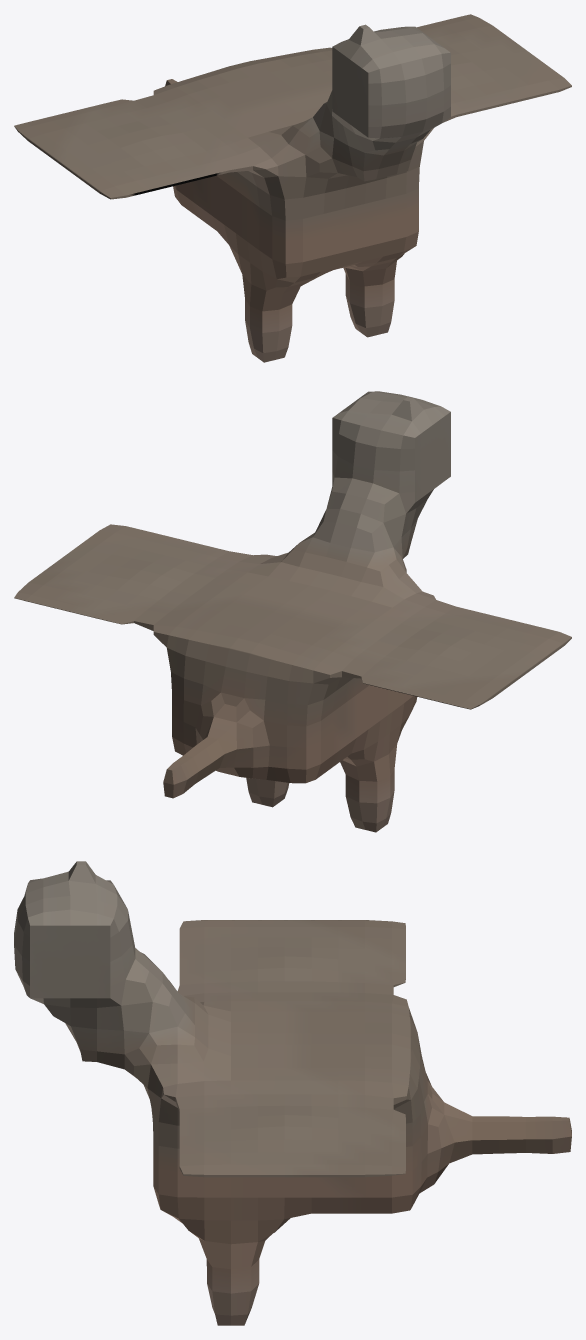
The model's file is imoogi.glb.
The picture shows the model from 3 angles, top to bottom: view 1: azimuth 30°, elevation 25°; view 2: azimuth 150°, elevation 25°; view 3: azimuth 270°, elevation 25°; orthographic projection. The views are drawn at different scales.
Parts seen in each view (by area): view 1: geometry_0; view 2: geometry_0; view 3: geometry_0.
Part boxes in pixels (bbox=[...]): geometry_0: bbox=[14, 14, 571, 362]; geometry_0: bbox=[14, 391, 571, 832]; geometry_0: bbox=[14, 861, 571, 1325].
Size of the model in its own units: 1.25 by 0.9519 by 1.16.
1 material, 1 textured.
